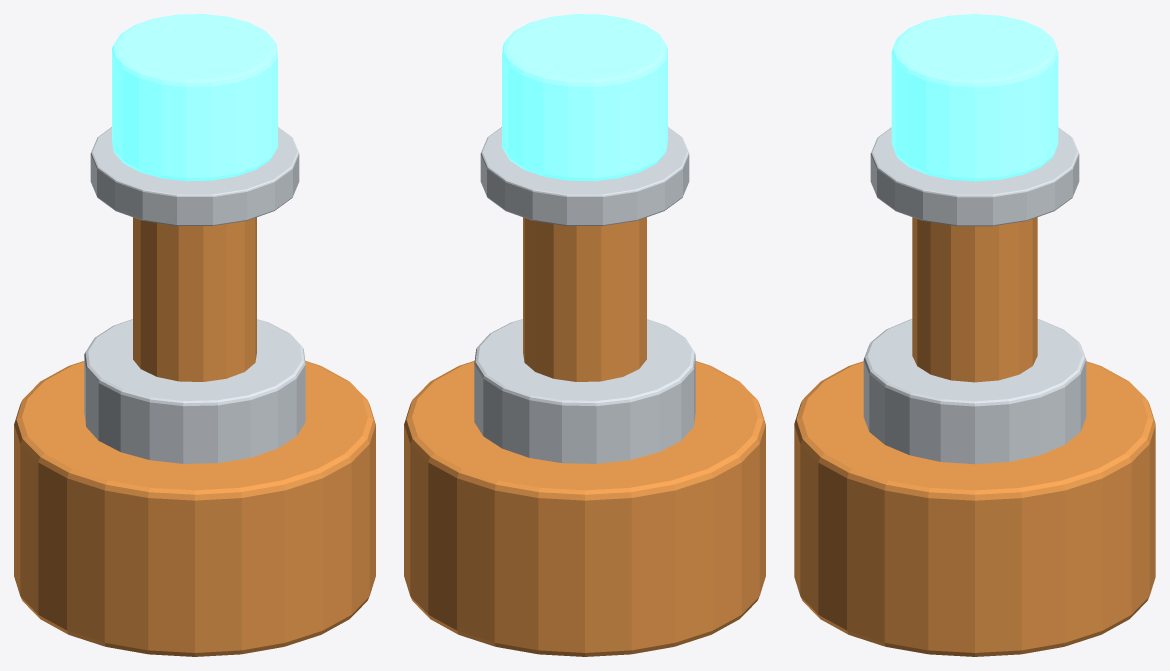
File: buoy_marker.glb
3 renders of one model, left to right at view 1: azimuth 30°, elevation 25°; view 2: azimuth 150°, elevation 25°; view 3: azimuth 270°, elevation 25°, orthographic.
Visible parts, largest first — view 1: FloatDrum, BeaconLantern, UpperCollar, LatticeMast, SolarRing; view 2: FloatDrum, BeaconLantern, UpperCollar, LatticeMast, SolarRing; view 3: FloatDrum, BeaconLantern, UpperCollar, LatticeMast, SolarRing.
Boxes of the visible parts, left/top/right/bottom form: FloatDrum: left=14, top=361, right=375, bottom=656; BeaconLantern: left=112, top=14, right=277, bottom=181; UpperCollar: left=84, top=319, right=305, bottom=463; LatticeMast: left=133, top=217, right=256, bottom=381; SolarRing: left=90, top=127, right=299, bottom=225; FloatDrum: left=404, top=361, right=765, bottom=656; BeaconLantern: left=502, top=14, right=667, bottom=181; UpperCollar: left=474, top=319, right=695, bottom=463; LatticeMast: left=523, top=217, right=646, bottom=381; SolarRing: left=480, top=127, right=689, bottom=225; FloatDrum: left=794, top=361, right=1155, bottom=656; BeaconLantern: left=891, top=14, right=1058, bottom=181; UpperCollar: left=863, top=319, right=1086, bottom=464; LatticeMast: left=912, top=217, right=1037, bottom=382; SolarRing: left=870, top=127, right=1079, bottom=226.
Size of the model in its own units: 1.87 by 3.06 by 1.87.
